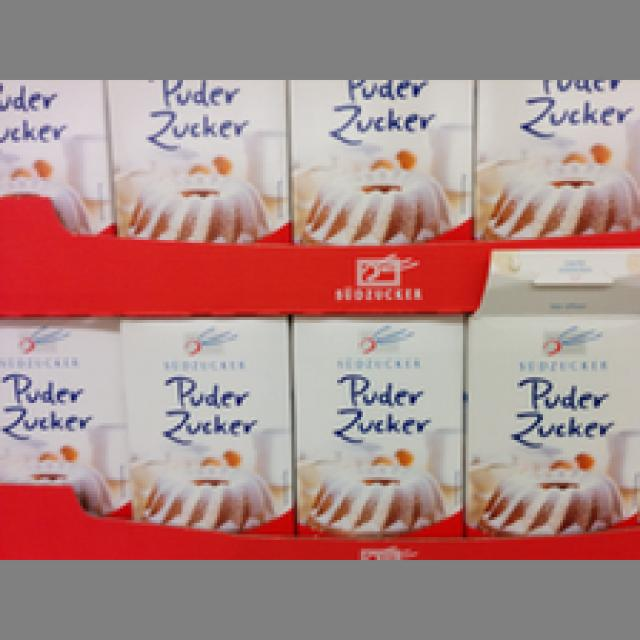groceries: (466, 291, 634, 543), (117, 314, 292, 532), (288, 317, 463, 534), (286, 77, 468, 243), (103, 77, 286, 240), (474, 77, 637, 243), (0, 317, 120, 509), (0, 80, 106, 231)
